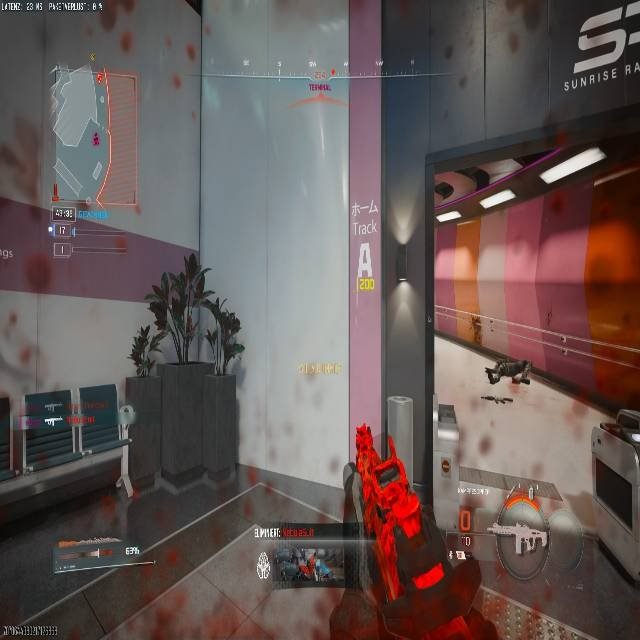head: (490, 499, 553, 577)
